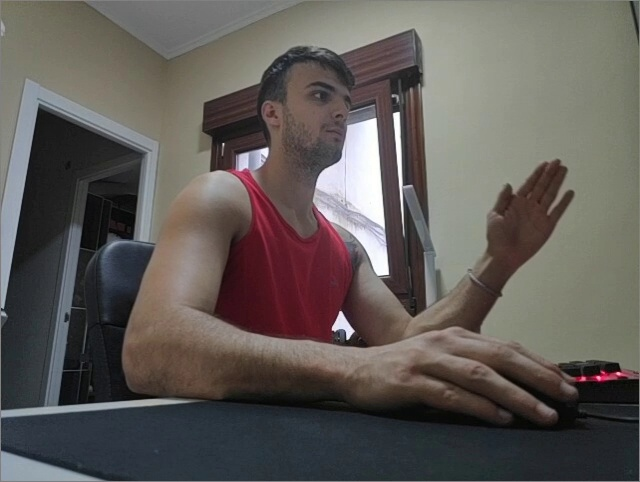Palm: (480, 157, 575, 261)
